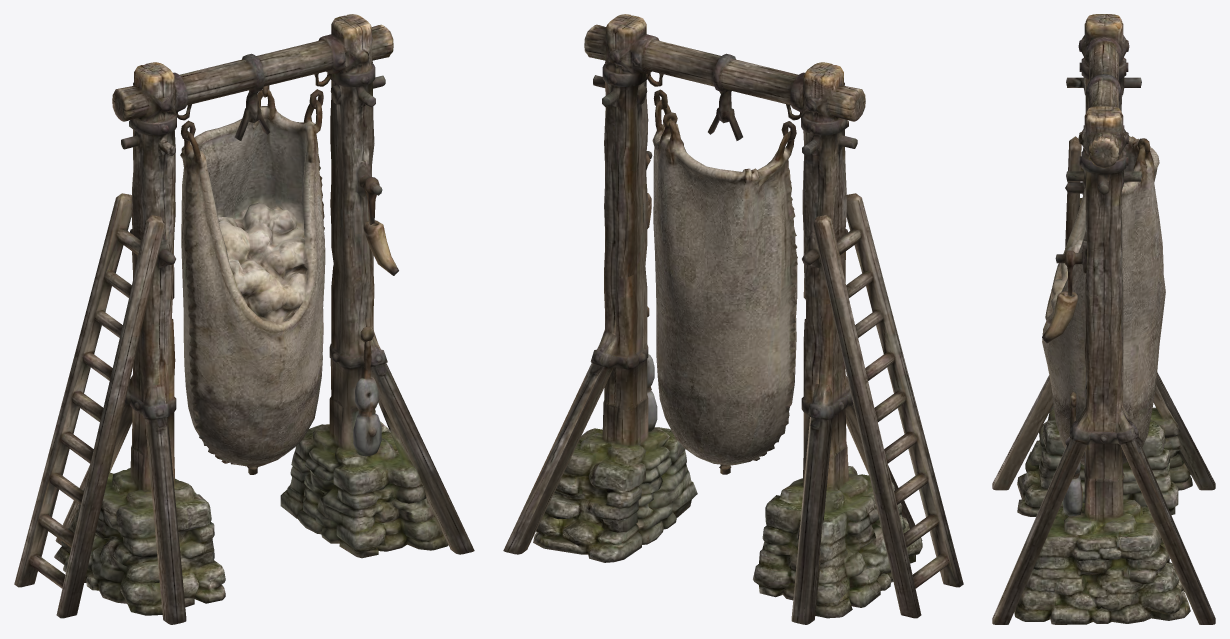
File: kit_sr_wool_frame.glb
3 views of the same model, side by side, from view 1: azimuth 30°, elevation 25°; view 2: azimuth 150°, elevation 25°; view 3: azimuth 270°, elevation 25° (orthographic). The views are drawn at different scales.
Parts seen in each view (by area): view 1: kit_sr_wool_frame; view 2: kit_sr_wool_frame; view 3: kit_sr_wool_frame.
Part boxes in pixels (x1=…): kit_sr_wool_frame: x1=14, y1=14, x2=474, y2=624; kit_sr_wool_frame: x1=503, y1=14, x2=963, y2=624; kit_sr_wool_frame: x1=992, y1=14, x2=1215, y2=624.
Size of the model in its own units: 2.38 by 3 by 1.26.
1 material, 1 textured.
